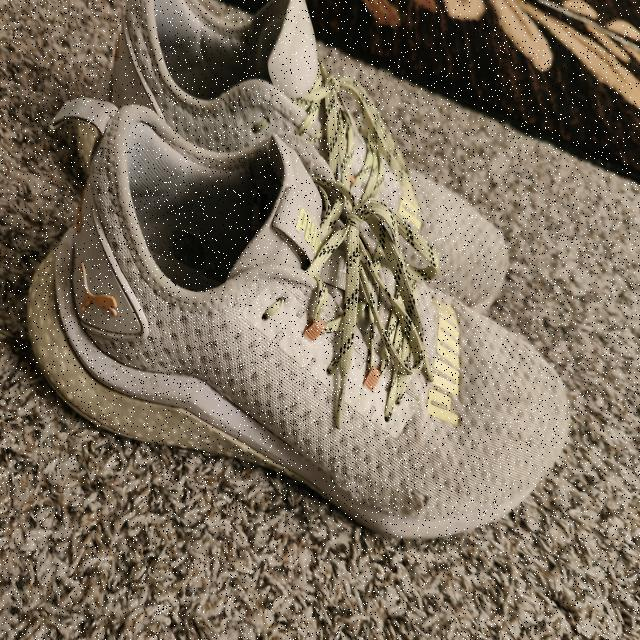white shoes: (27, 0, 570, 544)
